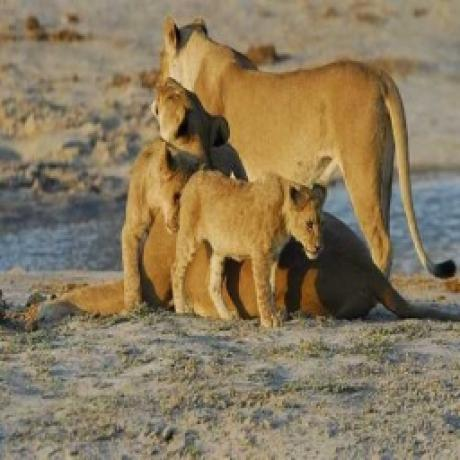Lion: (22, 76, 419, 316), (159, 12, 460, 279), (170, 172, 327, 328), (120, 136, 183, 318)
